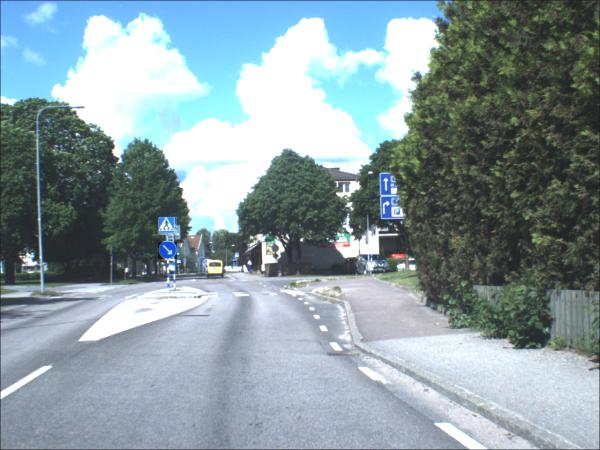NO_STOPPING_NO_STANDING: (273, 246, 281, 254)
PASS_RIGHT_SIDE: (160, 243, 180, 261), (201, 258, 206, 263), (205, 261, 209, 267)
PEDESTRIAN_CROSSING: (161, 219, 179, 237), (138, 253, 145, 261), (236, 254, 241, 260), (233, 259, 238, 264), (178, 261, 183, 265)
PRIORITY_ROAD: (273, 254, 281, 261)
